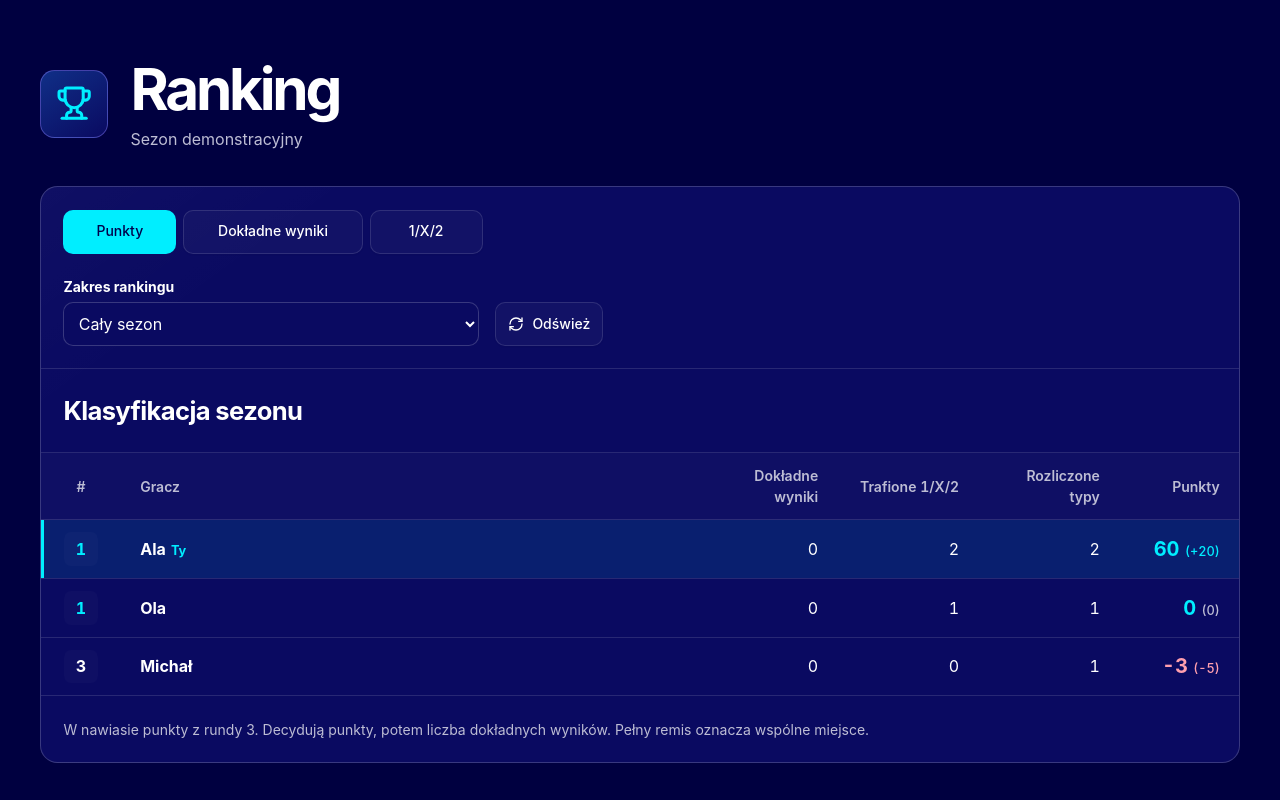
Test: shows the latest round contribution beside season points and hides it in a single-round ranking
Expected: the text "W nawiasie punkty z rundy 3." is shown, [63,720,263,738]
Click the button "Dokładne wyniki": [273, 232] box [183,210,363,254]
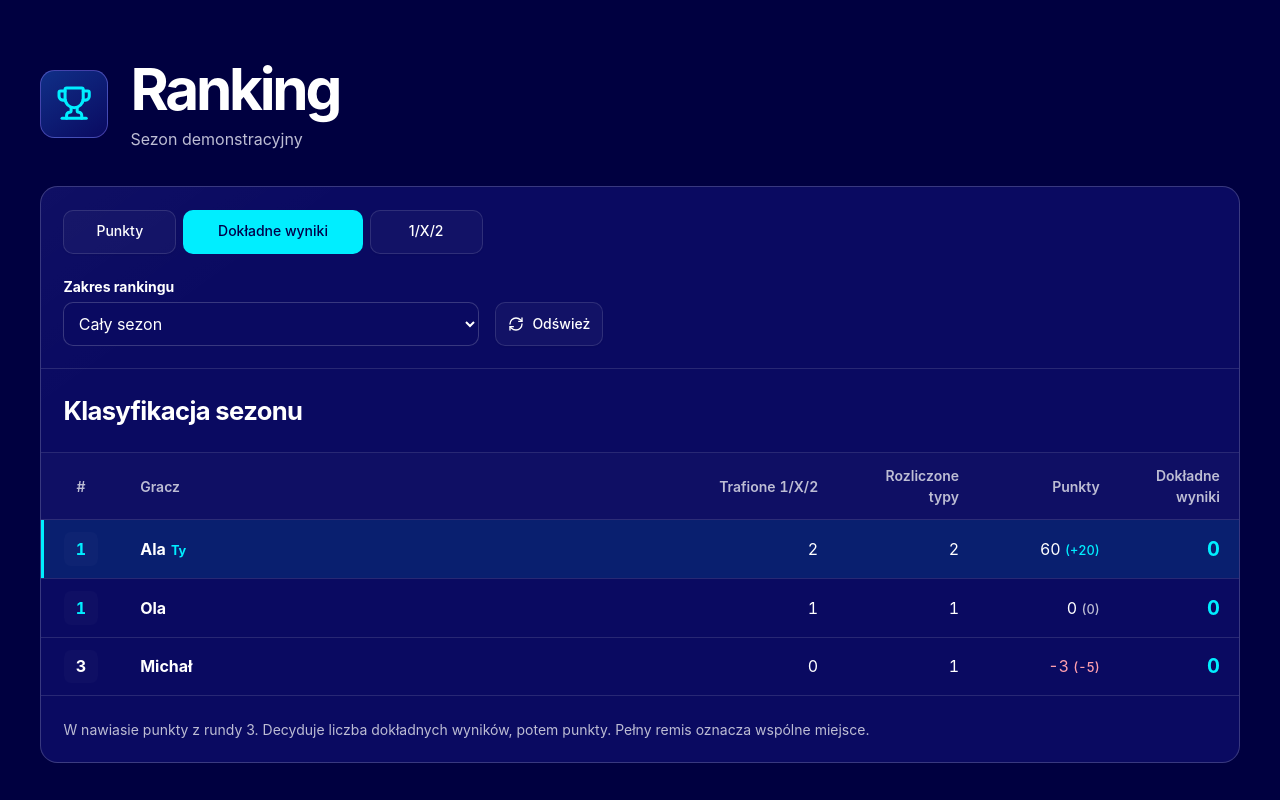
Select "Tylko runda 3" in the dropdown labelled "Zakres rankingu": [271, 324] box [63,302,479,346]
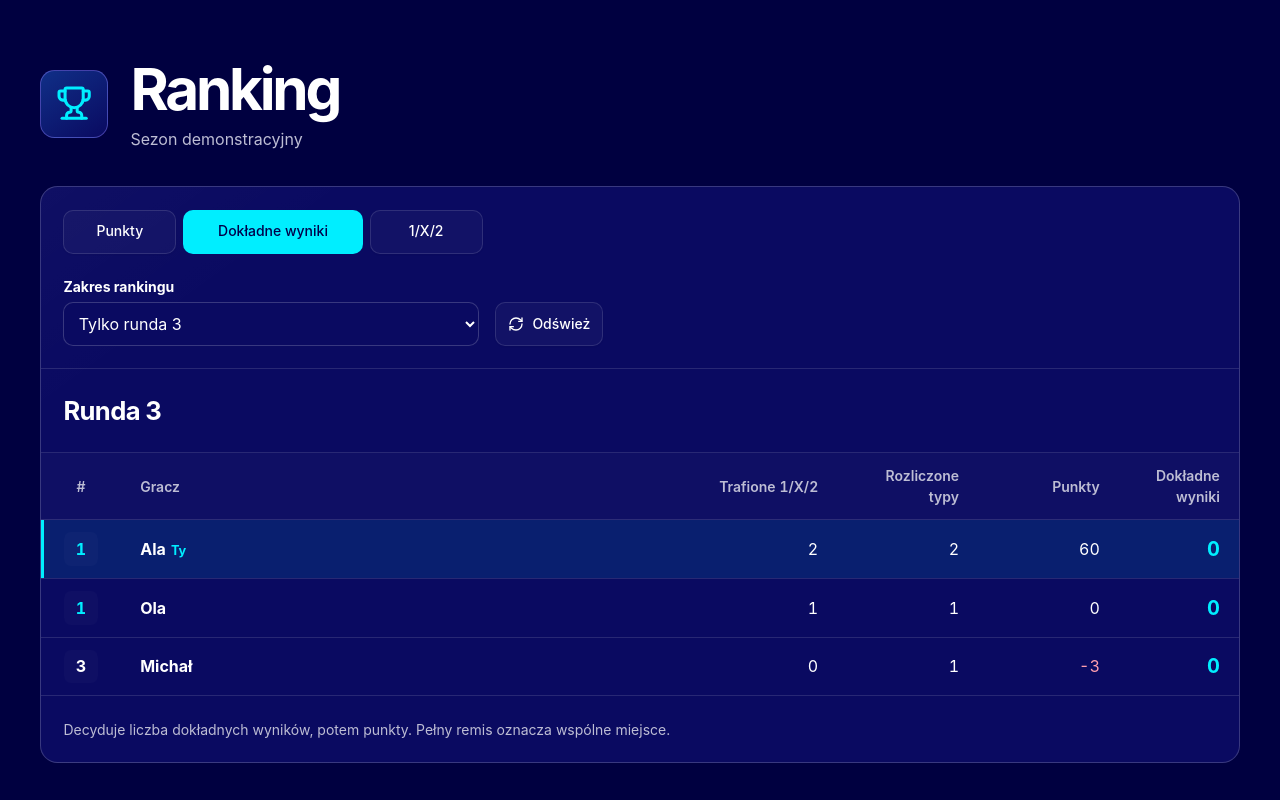
Expected: the text with class "ranking-round-points" is gone
Expected: the text "W nawiasie punkty" is gone
